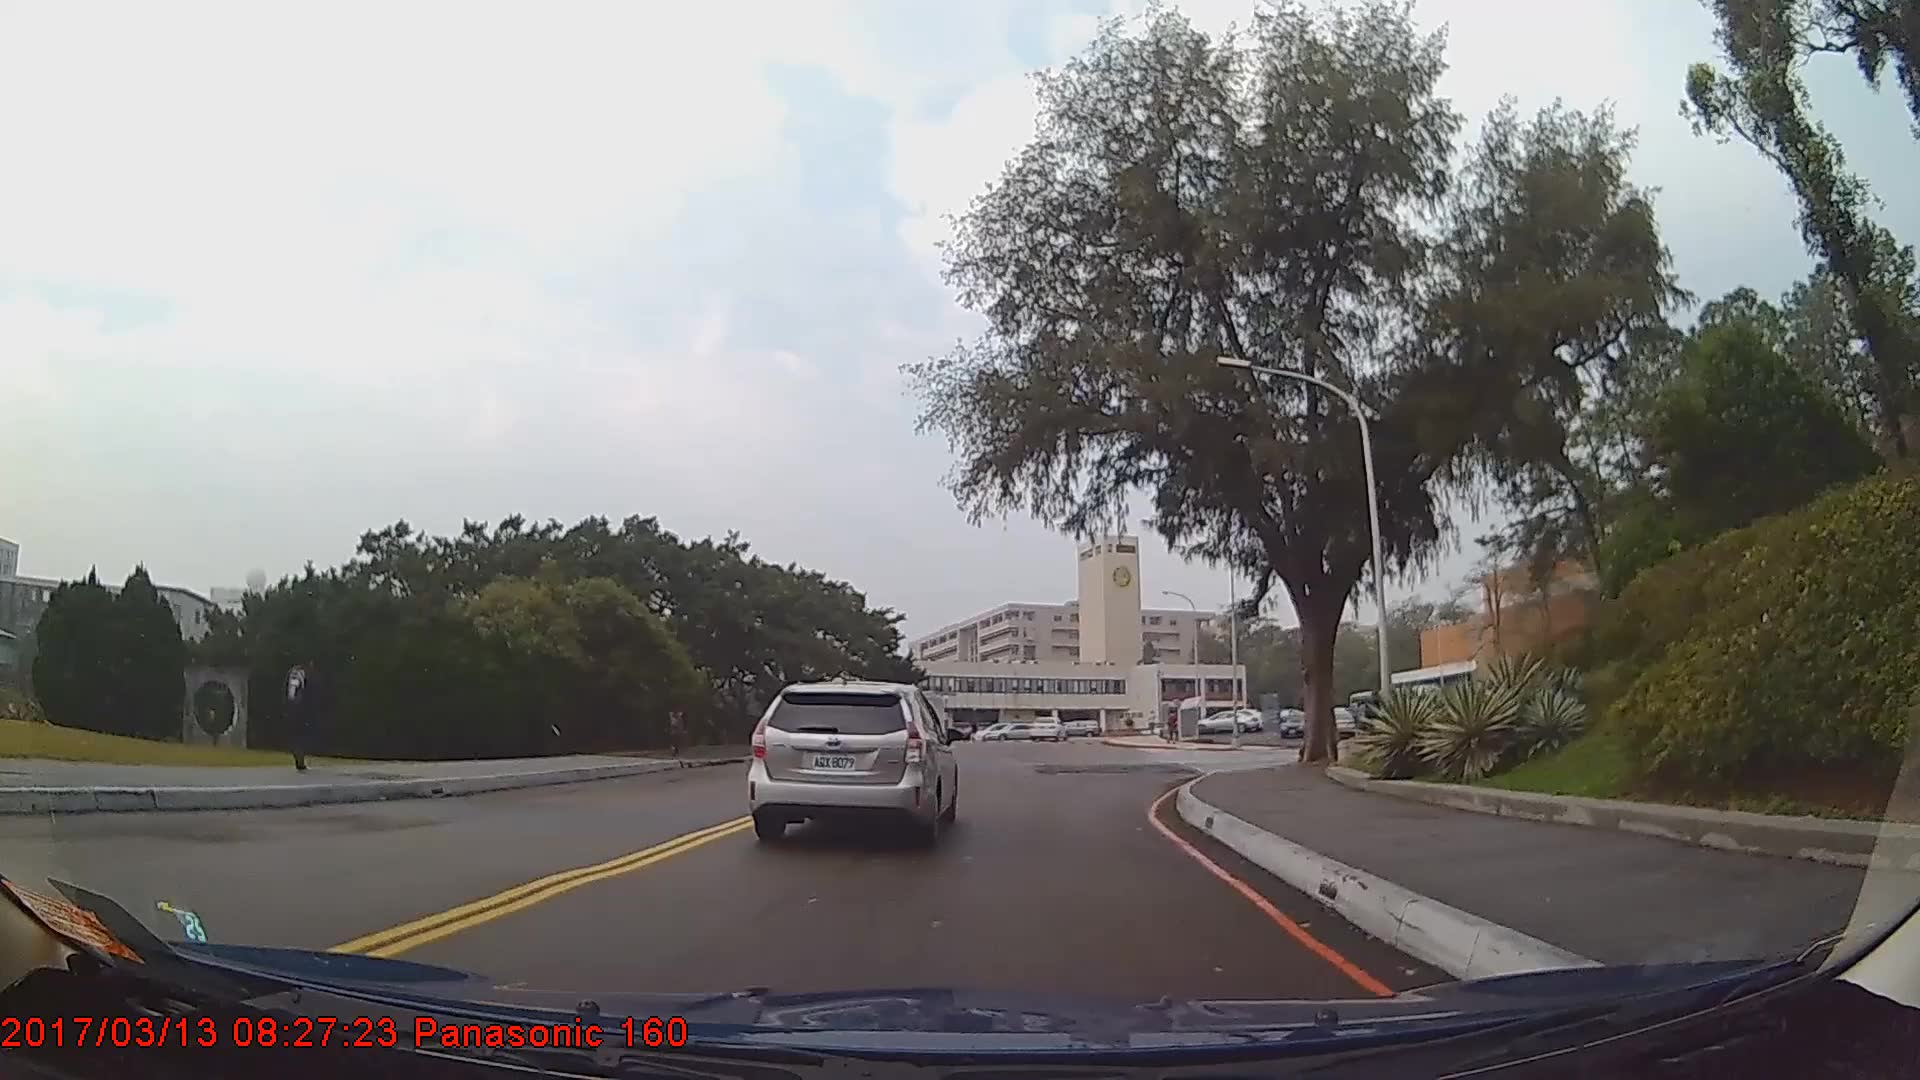pedestrian: (275, 643, 328, 776)
vehicle: (748, 679, 957, 846), (1197, 708, 1260, 734), (981, 716, 1038, 741), (1026, 713, 1069, 740), (1325, 709, 1353, 736), (1276, 712, 1305, 737)
